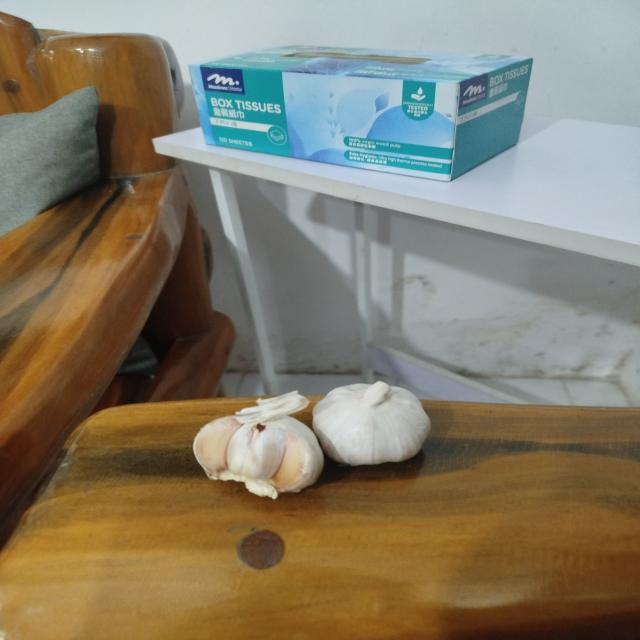garlic: (192, 390, 324, 500), (312, 380, 431, 466)
